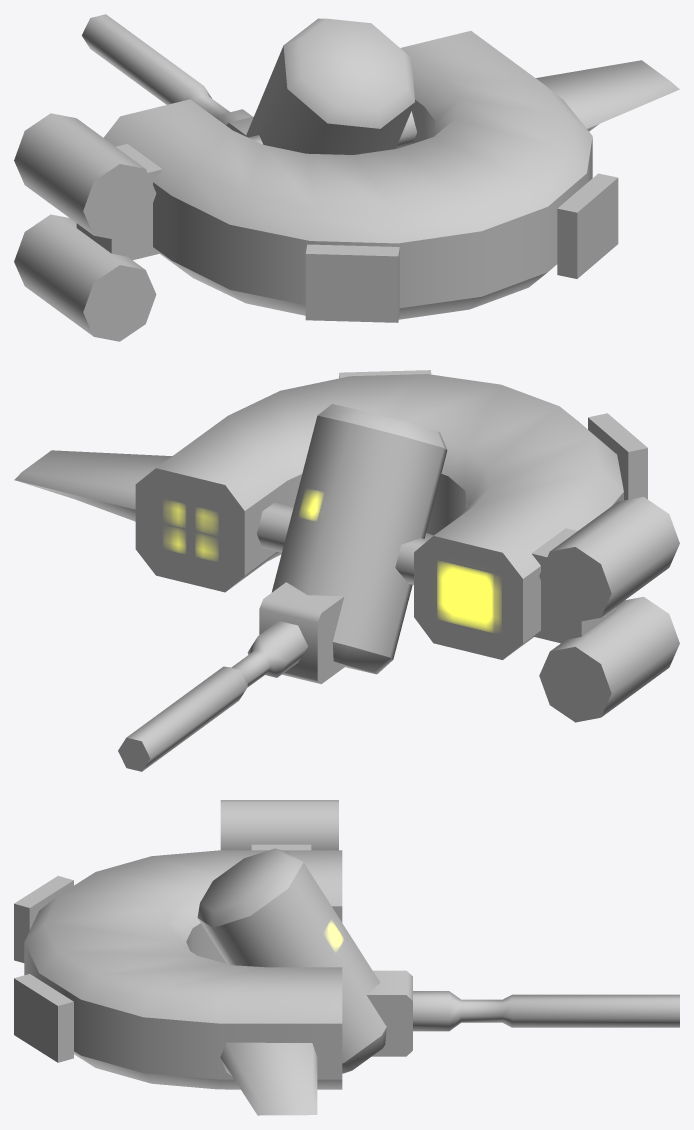
The model's file is Enemy_Cannon.gltf.
3 views of the same model, one above another, from view 1: azimuth 30°, elevation 25°; view 2: azimuth 150°, elevation 25°; view 3: azimuth 270°, elevation 25° (orthographic). The views are drawn at different scales.
Visible parts, largest first — view 1: imported_Meshes; view 2: imported_Meshes; view 3: imported_Meshes.
Boxes of the visible parts, left/top/right/bottom form: imported_Meshes: left=14, top=14, right=679, bottom=341; imported_Meshes: left=14, top=370, right=679, bottom=771; imported_Meshes: left=14, top=800, right=679, bottom=1115.
Size of the model in its own units: 0.2487 by 0.0969 by 0.2714.
